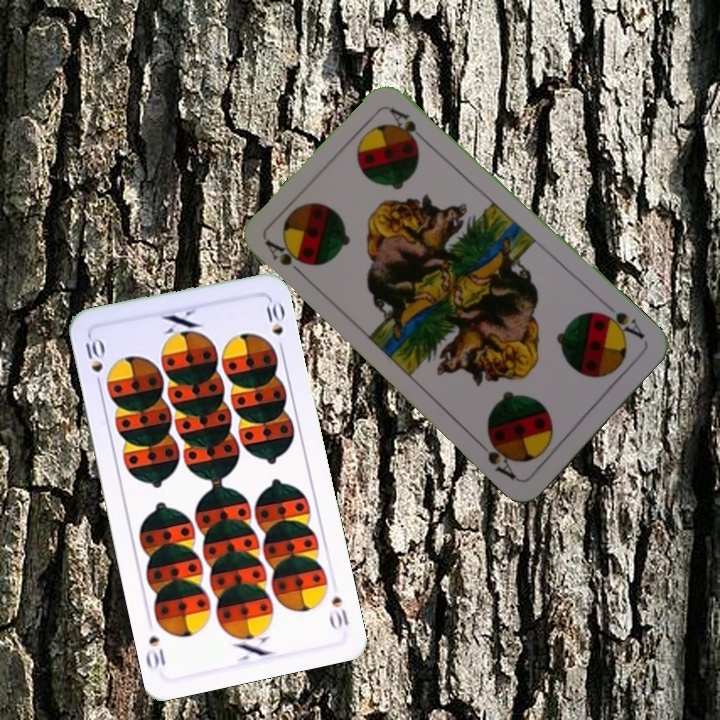S10: (80, 333, 107, 392), (325, 592, 351, 633)
SA: (261, 235, 311, 281), (595, 299, 648, 342)
